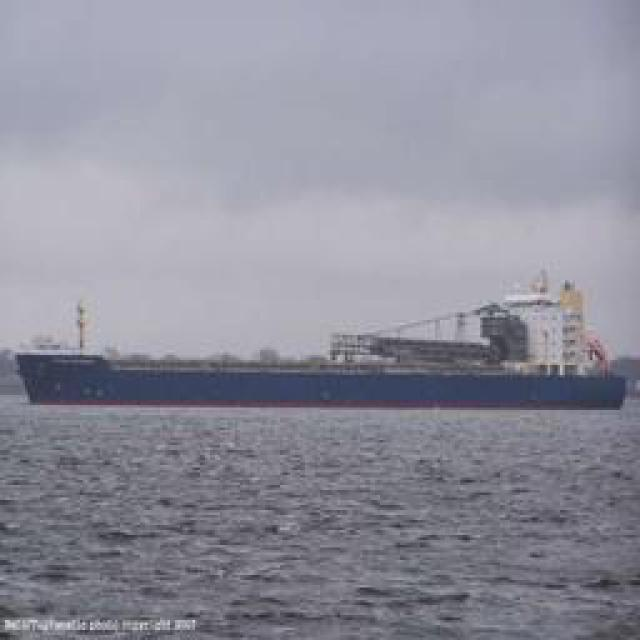Ship: (12, 325, 630, 410)
